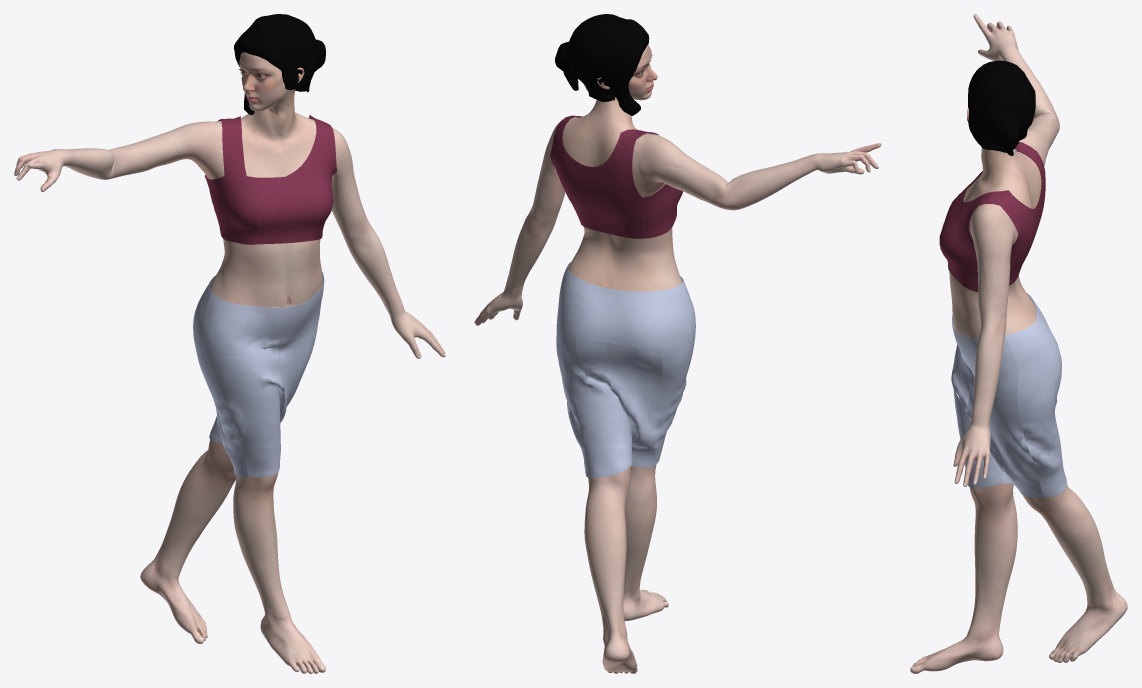
Rendered from Dynamic_2.obj.
3 renders of one model, left to right at view 1: azimuth 30°, elevation 25°; view 2: azimuth 150°, elevation 25°; view 3: azimuth 270°, elevation 25°, orthographic. The views are drawn at different scales.
Size of the model in its own units: 1226 by 1775 by 569.
